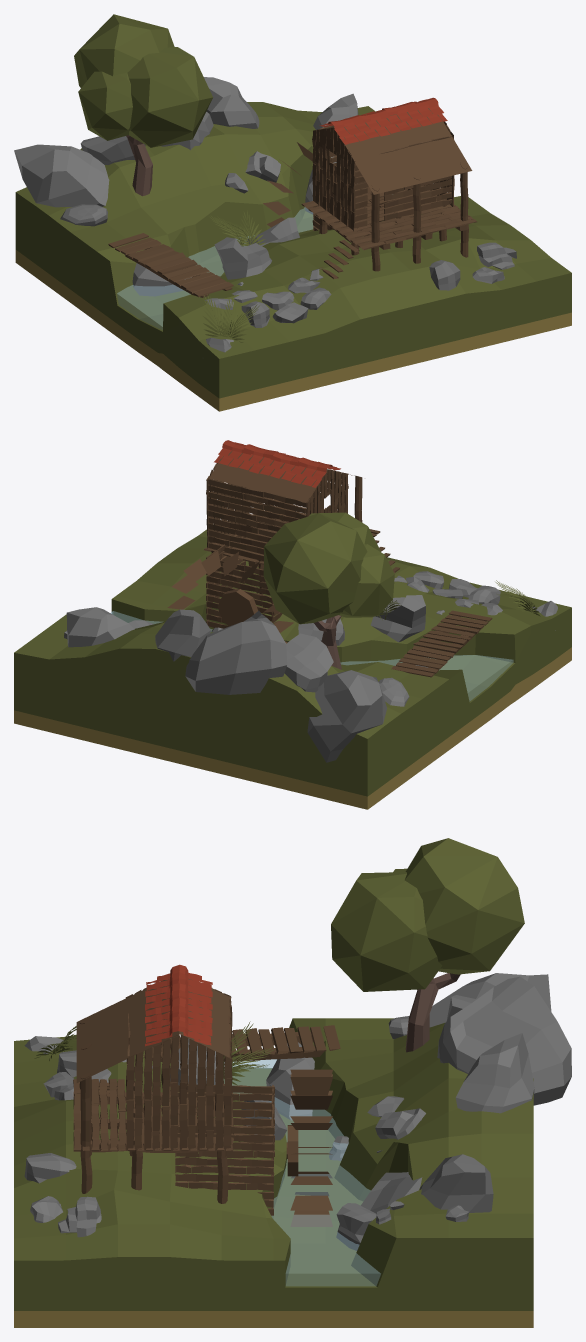
The model's file is 018-watermill.gltf.
3 views of the same model, one above another, from view 1: azimuth 30°, elevation 25°; view 2: azimuth 150°, elevation 25°; view 3: azimuth 270°, elevation 25° (orthographic). The views are drawn at different scales.
Visible parts, largest first — view 1: Cube, Icosphere.002, Vert, BigRock2.004, Plane.008, Plane.004, Plane.014, Plane, Plane.005, Cylinder.002, Vert.009, BigRock2.002 (+14 smaller); view 2: Cube, Icosphere.002, BigRock5.002, Plane.006, BigRock2.004, Plane.014, Plane.010, Rock_15.003, Vert, Plane, BigRock2.003, BigRock2.002 (+11 smaller); view 3: Cube, Icosphere.002, Plane, Plane.007, BigRock5.002, Vert, Plane.012, Plane.008, BigRock2.002, Circle.001, BigRock2.003, Plane.014 (+15 smaller).
Boxes of the visible parts, bbox=[...] form: Cube: bbox=[15, 102, 571, 411]; Icosphere.002: bbox=[74, 14, 212, 196]; Vert: bbox=[322, 108, 472, 194]; BigRock2.004: bbox=[14, 144, 109, 207]; Plane.008: bbox=[301, 186, 476, 250]; Plane.004: bbox=[312, 127, 355, 231]; Plane.014: bbox=[108, 233, 233, 297]; Plane: bbox=[117, 207, 313, 329]; Plane.005: bbox=[355, 135, 452, 227]; Cylinder.002: bbox=[319, 162, 468, 271]; Vert.009: bbox=[334, 105, 447, 144]; BigRock2.002: bbox=[204, 77, 259, 128]; Cube: bbox=[14, 529, 571, 809]; Icosphere.002: bbox=[263, 512, 394, 669]; BigRock5.002: bbox=[185, 610, 287, 694]; Plane.006: bbox=[208, 479, 306, 561]; BigRock2.004: bbox=[307, 670, 387, 762]; Plane.014: bbox=[391, 610, 492, 677]; Plane.010: bbox=[206, 557, 274, 628]; Rock_15.003: bbox=[284, 633, 333, 692]; Vert: bbox=[209, 450, 354, 502]; Plane: bbox=[111, 611, 513, 701]; BigRock2.003: bbox=[66, 607, 134, 647]; BigRock2.002: bbox=[155, 609, 210, 661]; Cube: bbox=[14, 1018, 533, 1327]; Icosphere.002: bbox=[331, 838, 524, 1052]; Plane: bbox=[224, 1059, 380, 1285]; Plane.007: bbox=[126, 1035, 232, 1149]; BigRock5.002: bbox=[437, 976, 571, 1105]; Vert: bbox=[76, 978, 229, 1082]; Plane.012: bbox=[175, 1125, 273, 1215]; Plane.008: bbox=[73, 1078, 233, 1151]; BigRock2.002: bbox=[455, 1033, 534, 1113]; Circle.001: bbox=[290, 1069, 332, 1226]; BigRock2.003: bbox=[419, 1154, 493, 1212]; Plane.014: bbox=[144, 1025, 340, 1063].
Size of what is drawn, in the model's own units: 16.01 by 10.71 by 17.18.
